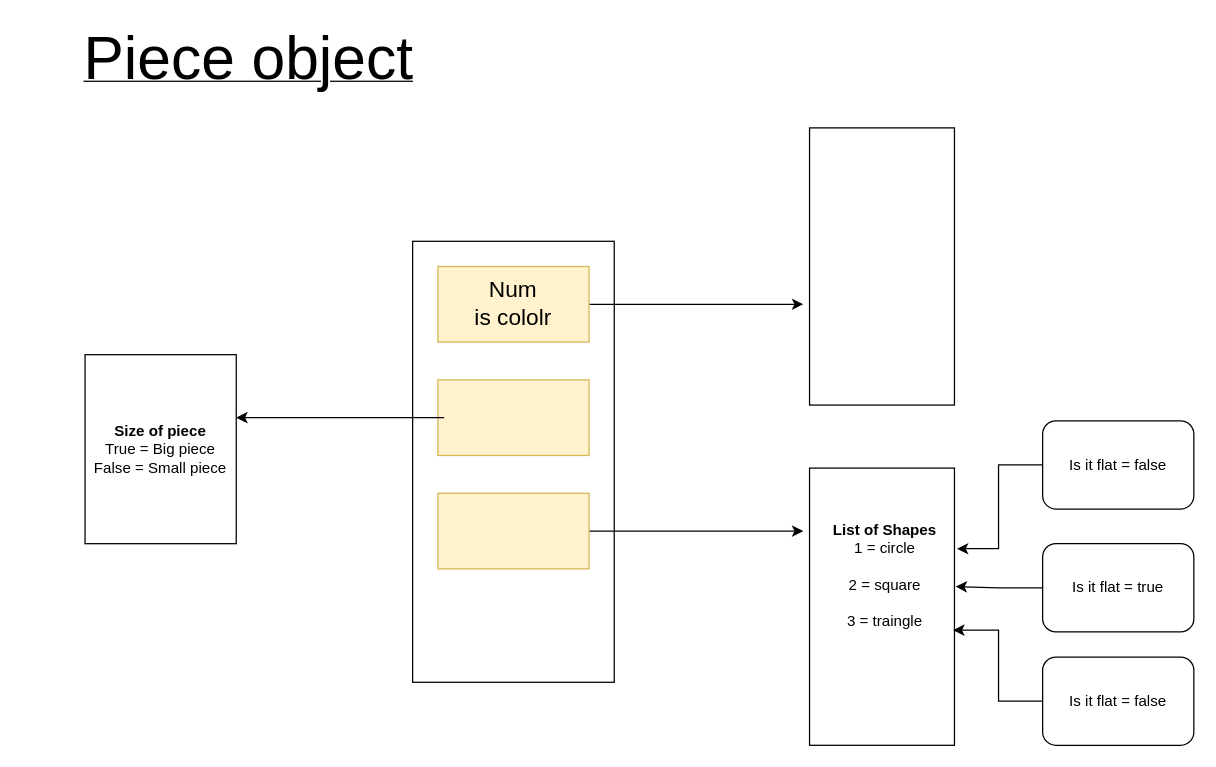
This 1216x767 diagram has some shape labels left out. Here are the shapes that lost their labels. From the top down, the box of each, then its label:
(808, 127, 954, 405): List of Colors 1 = red 2 = blue 3 = yellow 4 = purple 5 = green
(437, 379, 589, 455): Boolean Big or small
(437, 492, 589, 569): Num is shape
